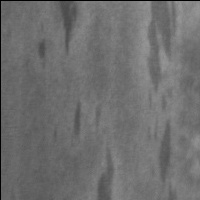inclusion: (140, 2, 179, 141), (144, 110, 178, 200), (93, 141, 119, 200), (56, 1, 82, 60), (34, 23, 51, 73), (68, 99, 86, 139)
